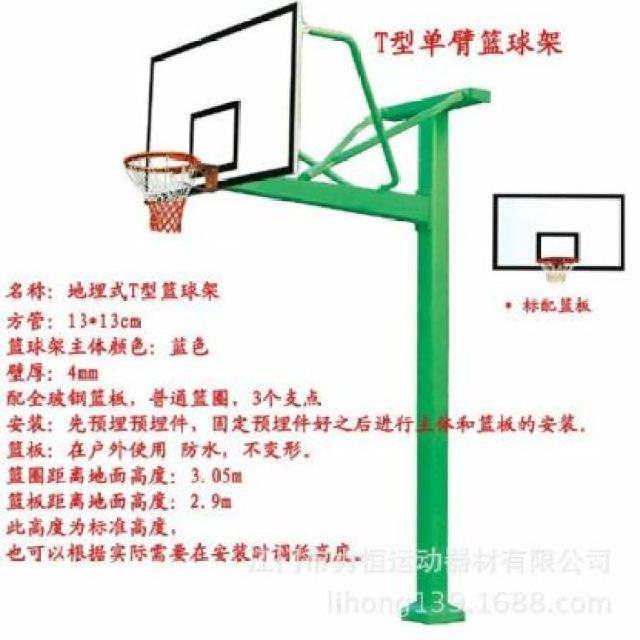rim: (122, 150, 202, 234), (538, 258, 576, 286)
